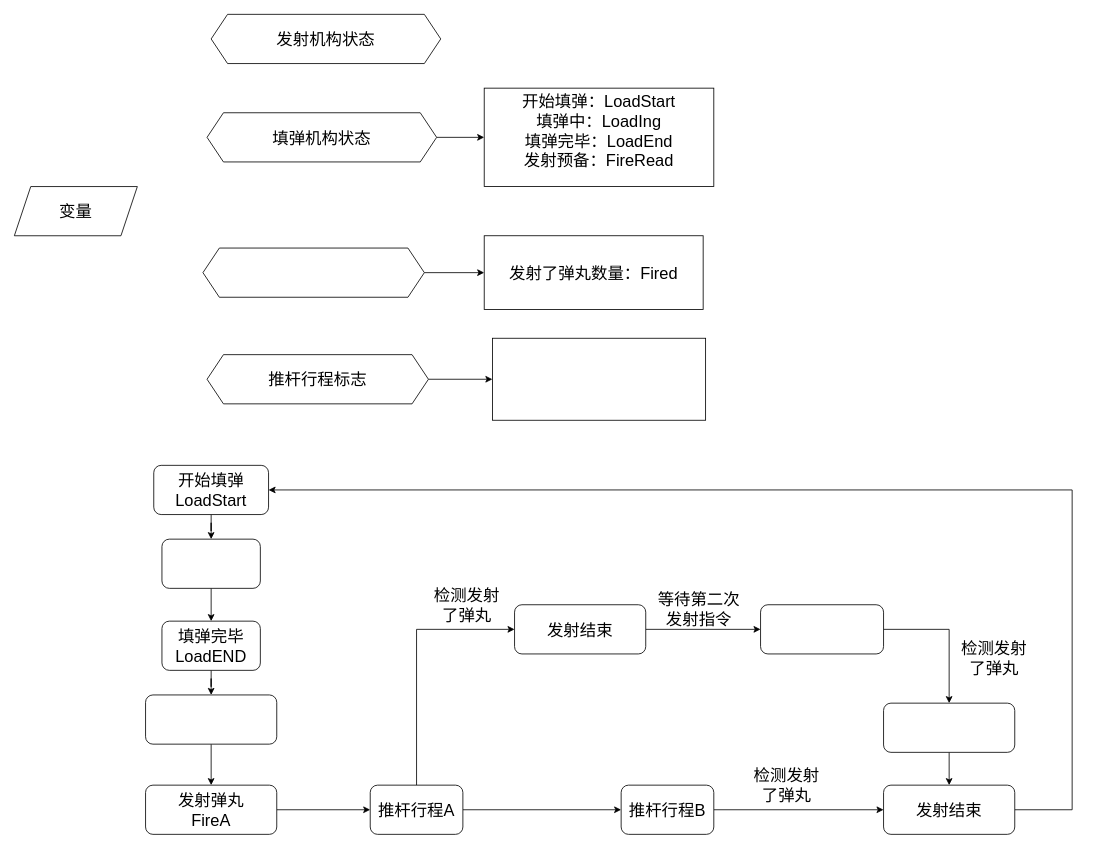
Some shapes in this 1093 by 849 pixel diagram are drawn without their labels. The box of each missing label's shape, as (x1, y1, x2, y2) in pixels:
发射弹丸: (760, 604, 884, 654)
发射弹丸 FireB: (883, 702, 1015, 752)
发射预备FireRead: (145, 694, 277, 744)
填弹中LoadING: (161, 538, 260, 588)
推杆行程A：PushToA 推杆行程B ：PushToB: (492, 337, 706, 420)
检测弹丸发射了的标志位: (202, 247, 424, 297)
